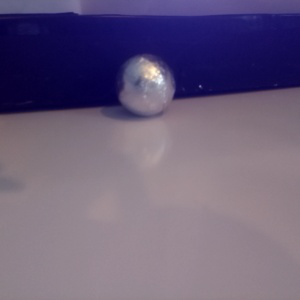zone: (1, 12, 300, 114)
